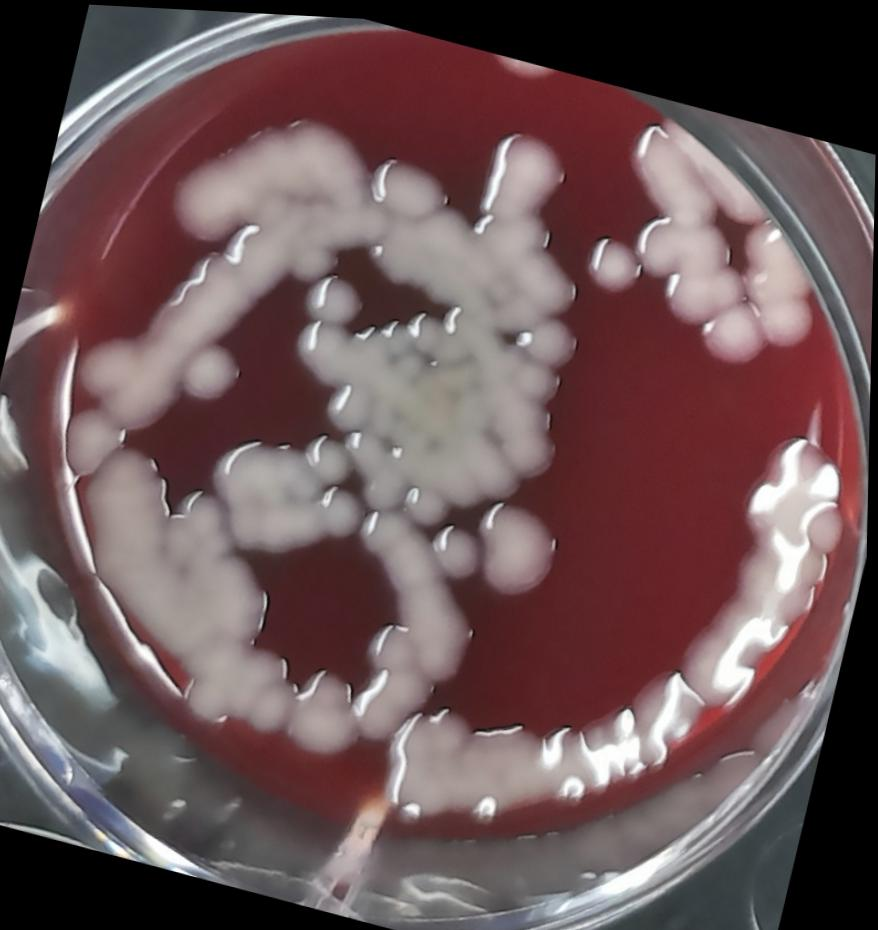ahydrophila: (375, 598, 718, 891), (41, 433, 339, 737), (63, 186, 302, 519), (670, 404, 866, 723), (161, 80, 366, 271), (189, 404, 377, 572), (337, 497, 499, 683), (613, 113, 739, 233), (465, 485, 576, 606), (474, 109, 576, 232), (281, 651, 379, 771), (622, 201, 740, 292), (726, 196, 829, 297), (691, 278, 781, 369), (658, 249, 749, 335), (363, 140, 454, 225), (743, 272, 824, 350), (299, 262, 375, 335), (579, 221, 650, 296), (497, 415, 572, 486), (424, 511, 492, 588), (519, 304, 588, 369), (479, 46, 563, 85)
